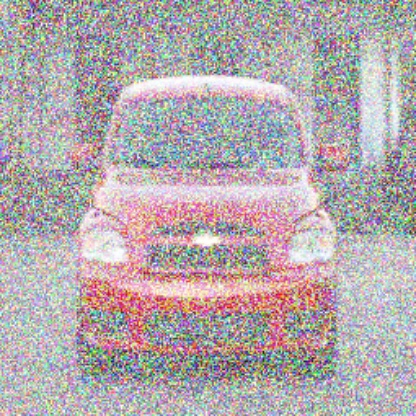Vehicle: (69, 73, 350, 382)
